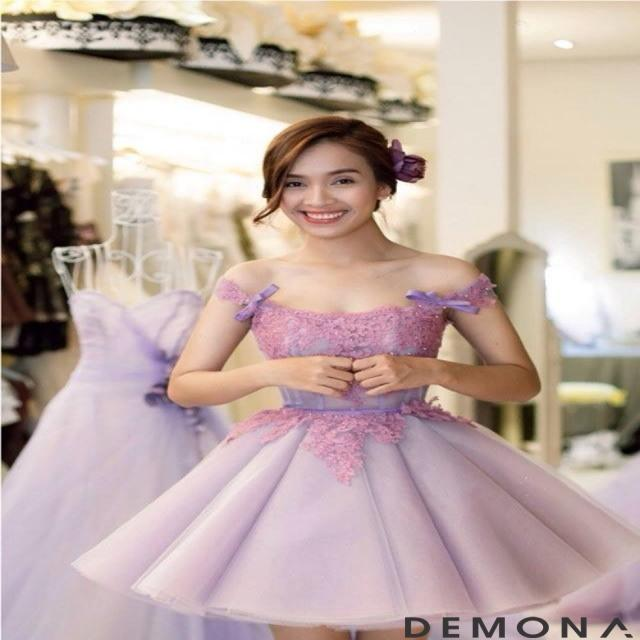clothes: (147, 261, 628, 629)
